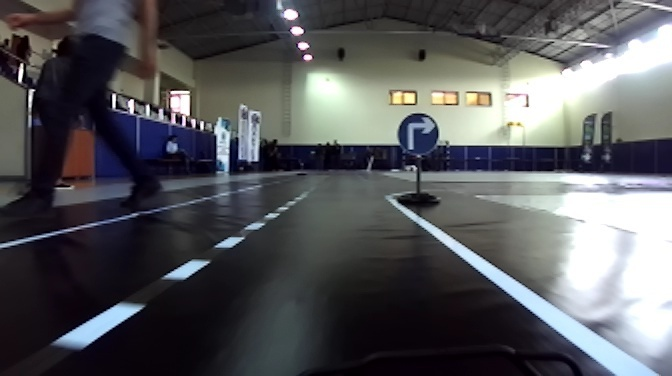saga_donus: (395, 111, 439, 157)
